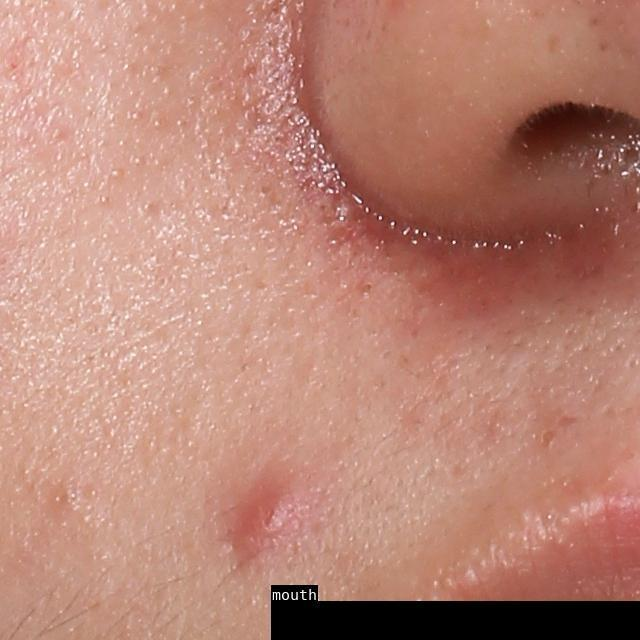atrophic_scar: (555, 412, 583, 435)
comedo: (359, 281, 376, 297)
papule: (232, 478, 304, 555)
